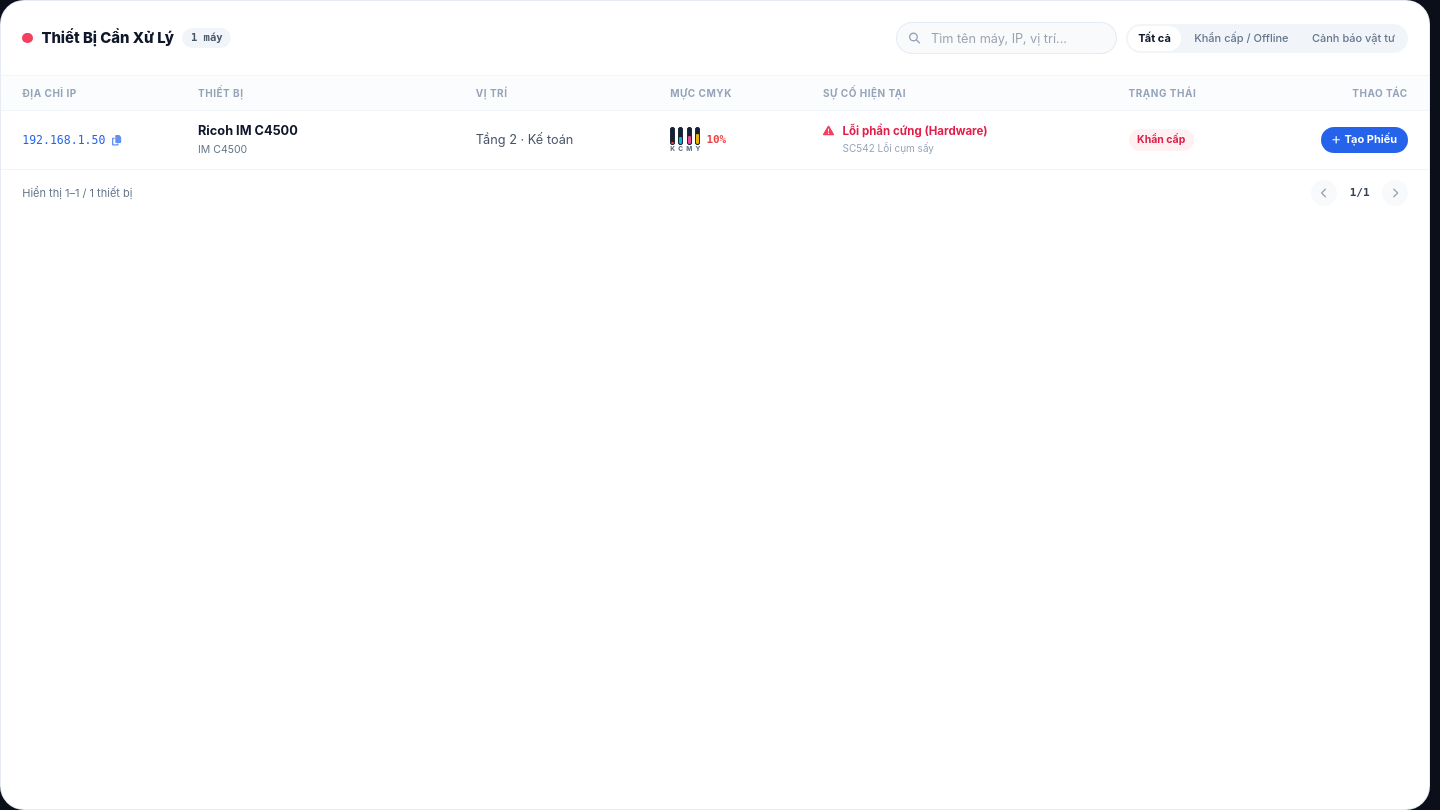
Test case: Dashboard Flow — NOC KPI Strip, Open Work Orders & Attention Table › AttentionDevicesTable filters by search query and renders Clean Slate when empty
Later steps or results of the test are not shown.
Check: the text "Ricoh IM C4500" is shown, box [198,123,298,138]
Type "192.168.1.99" into the field with placeholder "Tìm tên máy, IP, vị trí..." at (1006, 38), box [896,22,1117,54]
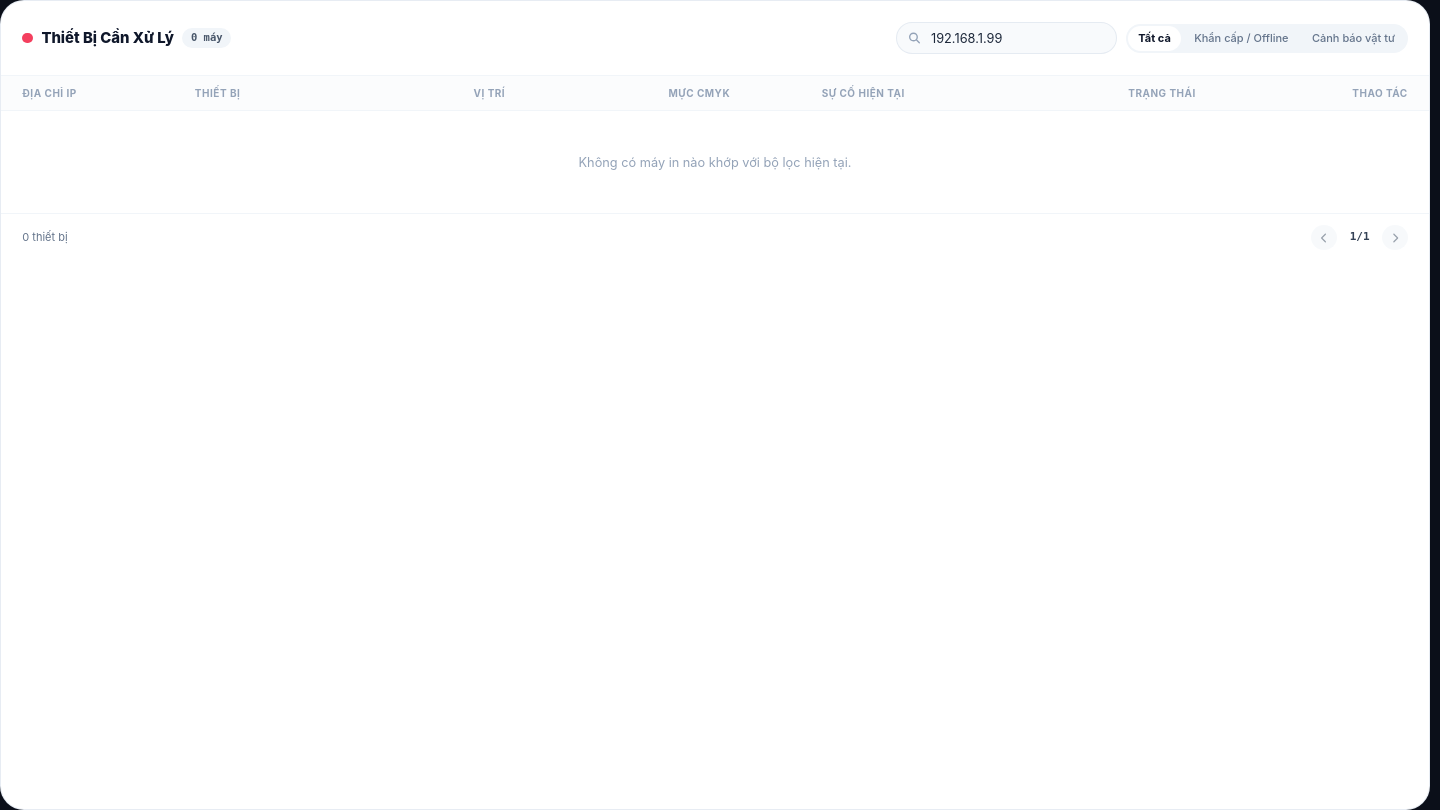
Check: the text "Ricoh IM C4500" is gone
